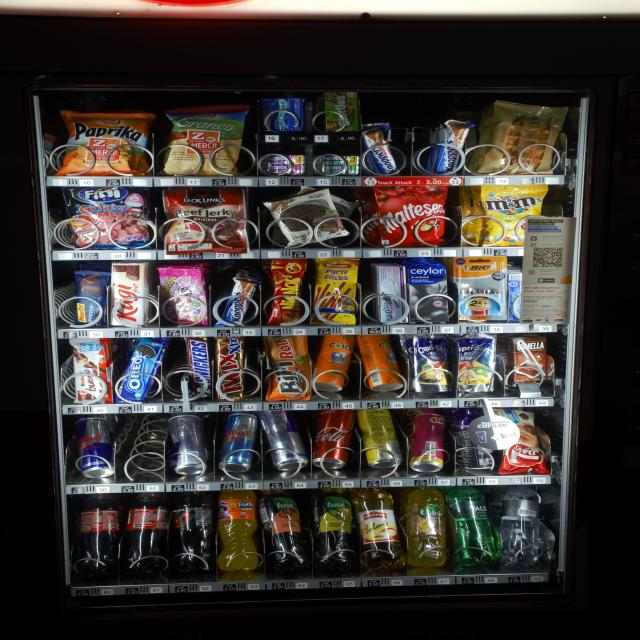7days_croissantschoko_packung_80_1_0000000000003: (498, 409, 546, 474)
airwaves_menthoneucalyptus_riegel_14_1_50173167: (265, 97, 300, 131)
berger____: (260, 189, 349, 246)
bifi_roll__50__4251097402635: (260, 334, 315, 405)
bueno___43__4008400320328: (67, 338, 115, 402)
c-swiss_dosenabisicetea__33__9120025930135: (356, 331, 409, 392), (313, 332, 356, 391)
caferoyal_classicmacchiato__33__7617014164487: (457, 409, 497, 468)
caprisun_multivitamin__20__4000177605004: (402, 334, 457, 393), (454, 333, 498, 393)
coke__flasche_50__54491472: (75, 490, 124, 576), (123, 491, 169, 576), (310, 407, 356, 467)
coke_zero_flasche_50__5449000131836: (175, 490, 214, 574)
comella_schokodrink__33__7613100037253: (506, 334, 556, 392)
fanta___50__40822938: (216, 489, 261, 571)
fini_galaxymix_packung_100_1_8410525150364: (71, 186, 158, 247)
fini_jellykisses_packung_80_1_8410525116704: (152, 264, 207, 322)
fuse_lemon__50__5449000235947: (307, 486, 360, 574)
fuse_lemon_dose_33__5449000235947: (358, 409, 401, 467)
fuse_peach__50__5449000236623: (262, 488, 304, 574)
jacklinks_beefjerkyorginal__25__4047751730219: (160, 185, 251, 255)
jlbrichard_gauffre__90__5410495002000: (488, 100, 556, 173)
kagi___50__7610046000259: (106, 260, 150, 326)
knoppers_riegel____4035800488808: (427, 116, 471, 174), (356, 122, 403, 175), (213, 277, 260, 327)
lorenz_nicnacs__40__4018077798818: (264, 258, 308, 325)
malburner_partysticks__40__7610200279682: (310, 257, 361, 325)
maltesers___100__5000159023061: (371, 185, 454, 251)
mnms_gelb__45__40111445: (479, 185, 546, 246)
oreo___66__84100733: (117, 336, 170, 404)
powerbar_proteinplusschoko__55__4029679520028: (72, 269, 107, 330)
ramseier_schorle__50__7610057012456: (359, 487, 398, 570)
redbull___33__90162909: (70, 417, 119, 478), (168, 414, 212, 477)
redbull_light__33__90162800: (218, 413, 258, 471)
skittles_sour_riegel_51_1_: (319, 89, 357, 131)
snickers___50__5000159461122: (181, 336, 216, 402)
stimorol_spearmint_riegel_14_1_: (312, 154, 360, 178)
stimorol_wildcherry_riegel_14_1_57060330: (261, 152, 302, 171)
tiki_himbeerbrause_dose_33_1_: (407, 413, 449, 470)
twix___50__5000159459228: (212, 334, 245, 402)
valser_classic__50__76404160: (444, 486, 498, 563)
valser_still__50__7610335002575: (500, 485, 542, 566)
volvic_pinapple__50__305764335648: (401, 486, 447, 569)
zweifel_graneochilli__100__7610095184009: (160, 105, 248, 172)
zweifel_paprika__90__7610095013002: (54, 109, 154, 176)
